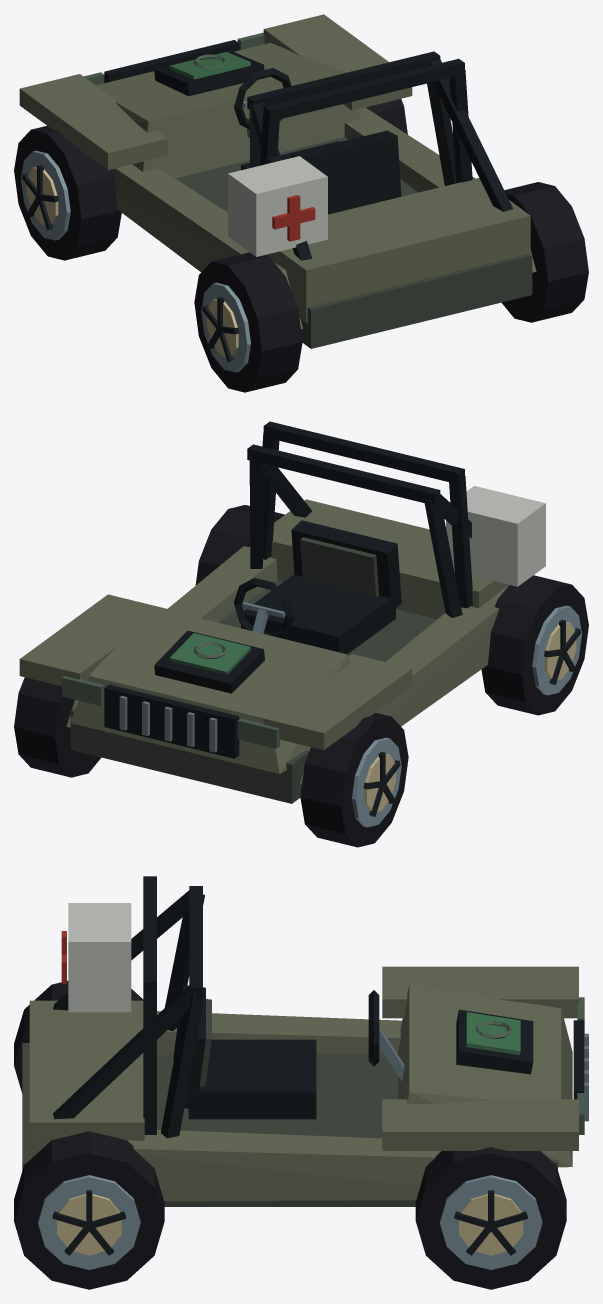
File: kart.glb
The picture shows the model from 3 angles, top to bottom: view 1: azimuth 30°, elevation 25°; view 2: azimuth 150°, elevation 25°; view 3: azimuth 270°, elevation 25°; orthographic projection. The views are drawn at different scales.
Visible parts, largest first — view 1: identity-jeep-jeep-offroad-frame, wheel-rear-left, wheel-front-left, identity-jeep-motif-medical, wheel-rear-right, identity-jeep-driver-cockpit, identity-jeep-motif-rollbar, identity-jeep-motif-scanner, wheel-front-right; view 2: identity-jeep-jeep-offroad-frame, identity-jeep-driver-cockpit, wheel-rear-left, wheel-front-left, identity-jeep-motif-medical, identity-jeep-motif-rollbar, wheel-front-right, identity-jeep-motif-scanner, wheel-rear-right; view 3: identity-jeep-jeep-offroad-frame, wheel-rear-right, wheel-front-right, identity-jeep-driver-cockpit, identity-jeep-motif-medical, identity-jeep-motif-scanner, identity-jeep-motif-rollbar, wheel-rear-left.
Boxes of the visible parts, x1,y1,x2,y2 form: identity-jeep-jeep-offroad-frame: [19, 14, 536, 348]; wheel-rear-left: [194, 252, 302, 392]; wheel-front-left: [14, 126, 121, 260]; identity-jeep-motif-medical: [228, 156, 327, 256]; wheel-rear-right: [502, 182, 588, 322]; identity-jeep-driver-cockpit: [234, 68, 401, 214]; identity-jeep-motif-rollbar: [260, 58, 472, 183]; identity-jeep-motif-scanner: [154, 50, 264, 96]; wheel-front-right: [366, 99, 407, 134]; identity-jeep-jeep-offroad-frame: [19, 444, 508, 803]; identity-jeep-driver-cockpit: [234, 520, 401, 654]; wheel-rear-left: [481, 575, 588, 715]; wheel-front-left: [300, 712, 408, 847]; identity-jeep-motif-medical: [446, 486, 545, 586]; identity-jeep-motif-rollbar: [262, 421, 472, 608]; wheel-front-right: [14, 677, 101, 777]; identity-jeep-motif-scanner: [154, 630, 264, 693]; wheel-rear-right: [195, 505, 284, 585]; identity-jeep-jeep-offroad-frame: [22, 886, 588, 1206]; wheel-rear-right: [14, 1131, 164, 1289]; wheel-front-right: [415, 1147, 566, 1289]; identity-jeep-driver-cockpit: [173, 985, 404, 1119]; identity-jeep-motif-medical: [61, 903, 131, 1012]; identity-jeep-motif-scanner: [456, 1009, 533, 1074]; identity-jeep-motif-rollbar: [143, 876, 156, 1134]; wheel-rear-left: [14, 980, 143, 1093].
Size of the model in its own units: 2.13 by 1.43 by 2.75.
